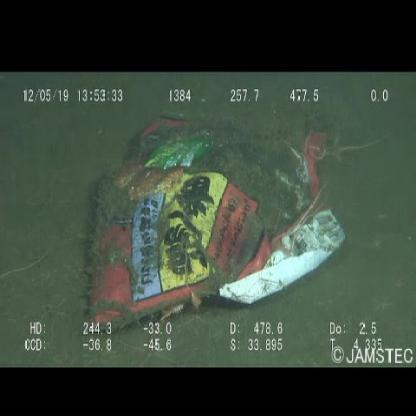Rác: (81, 108, 350, 338)
